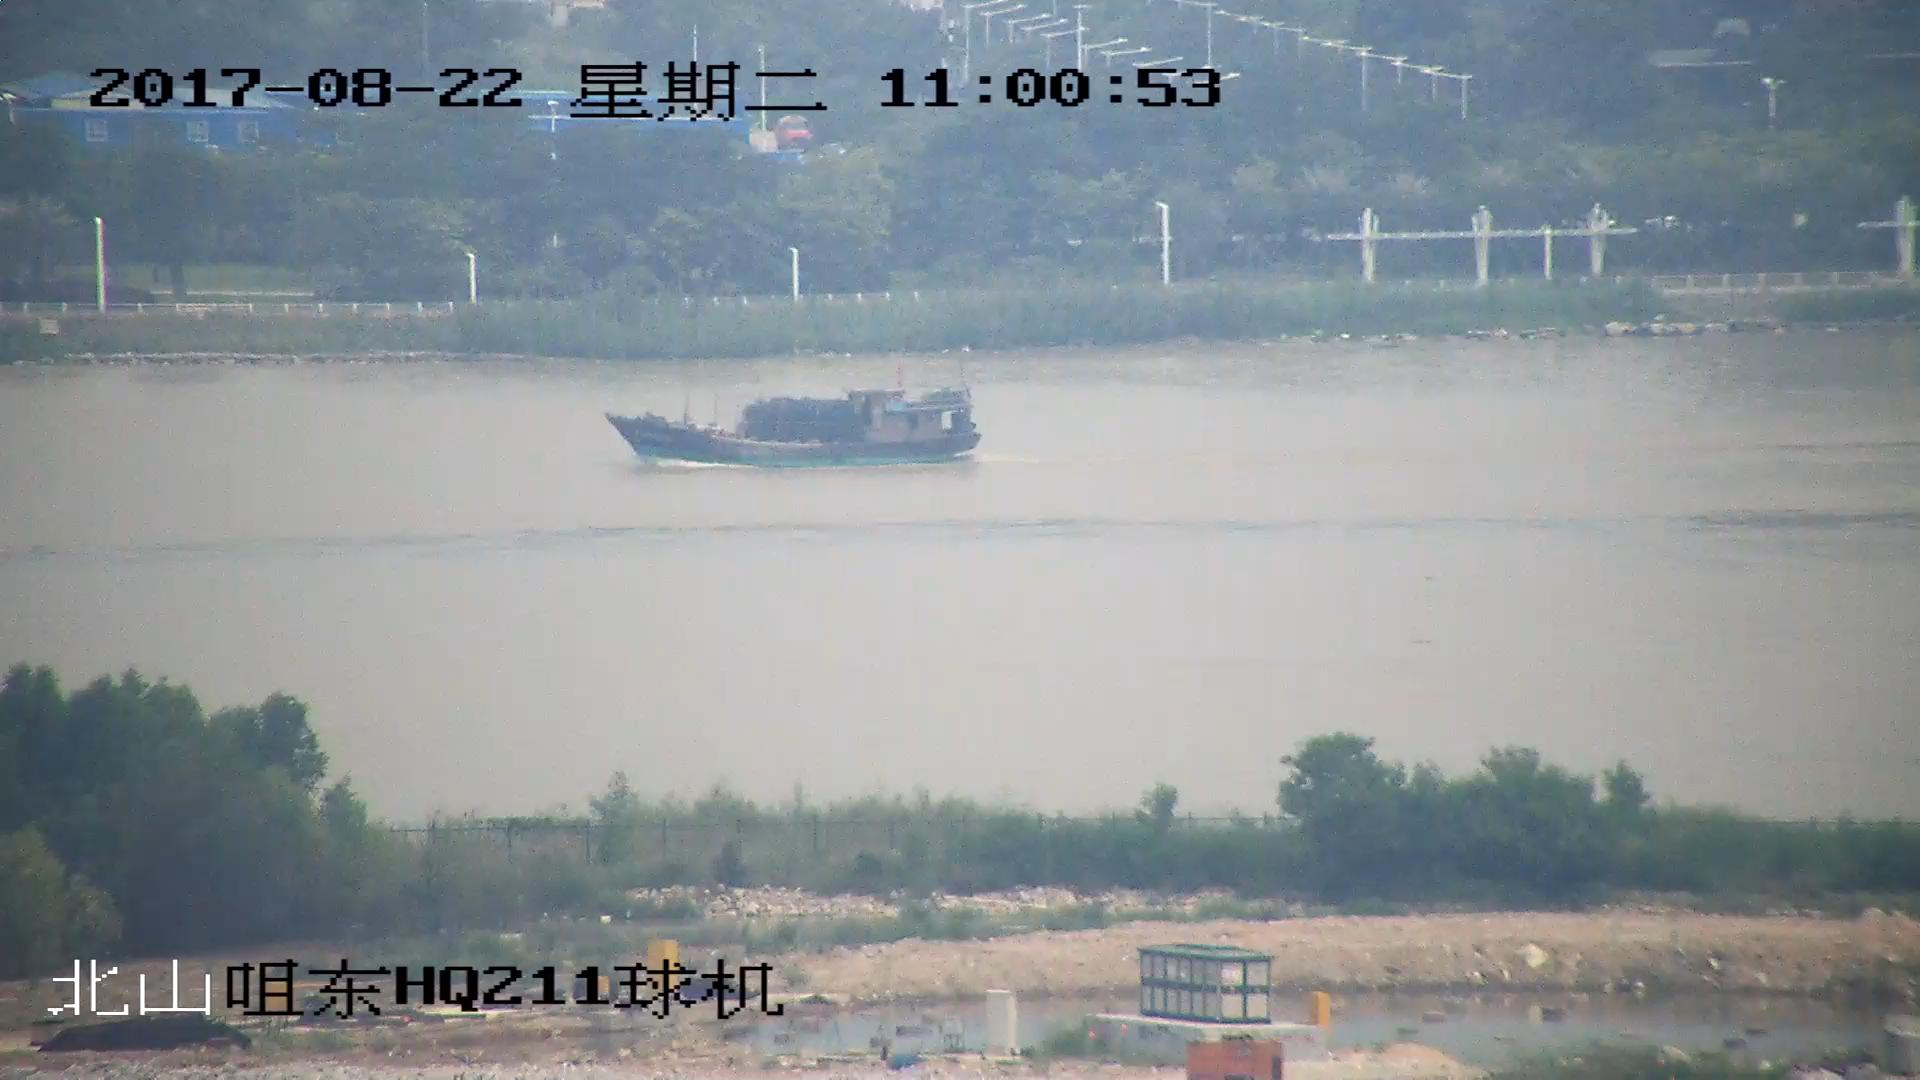fishing boat: (606, 384, 980, 467)
